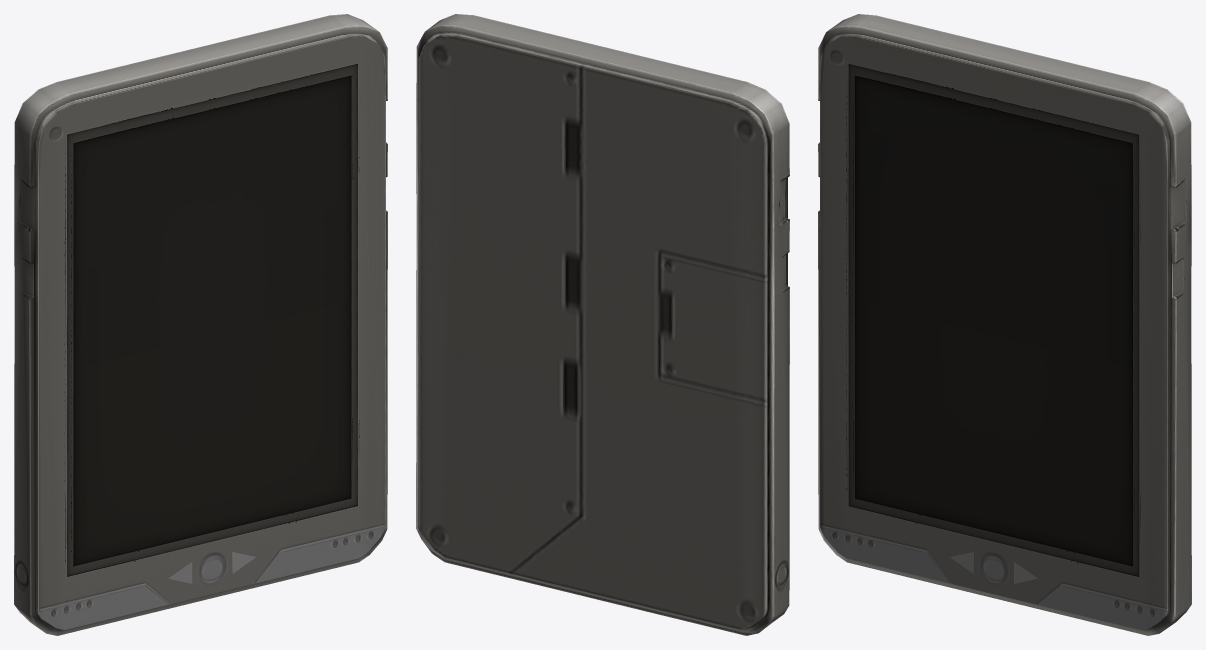
File: Tablette.fbx
3 renders of one model, left to right at view 1: azimuth 30°, elevation 25°; view 2: azimuth 150°, elevation 25°; view 3: azimuth 330°, elevation 25°, orthographic.
Parts seen in each view (by area): view 1: Low_Tablette:RetopoGroup1; view 2: Low_Tablette:RetopoGroup1; view 3: Low_Tablette:RetopoGroup1.
Part boxes in pixels (x1,y1,x2,y2): Low_Tablette:RetopoGroup1: (14,14,387,635); Low_Tablette:RetopoGroup1: (416,14,789,635); Low_Tablette:RetopoGroup1: (818,14,1191,635).
Size of the model in its own units: 28.96 by 41.67 by 3.11.
